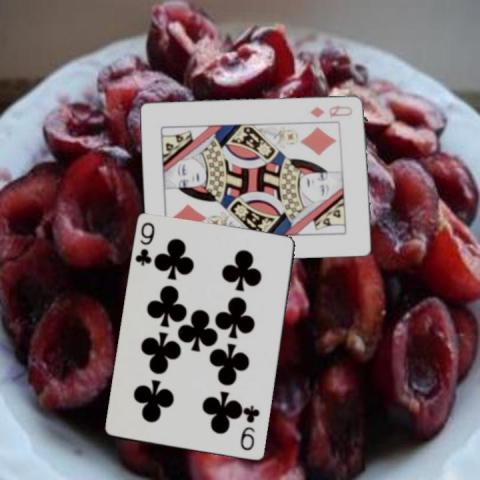9c: (132, 219, 156, 268), (239, 402, 261, 453)
Qd: (307, 104, 353, 120)
